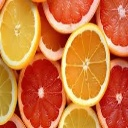orange: (61, 21, 111, 107), (17, 50, 67, 128), (0, 1, 41, 69)
